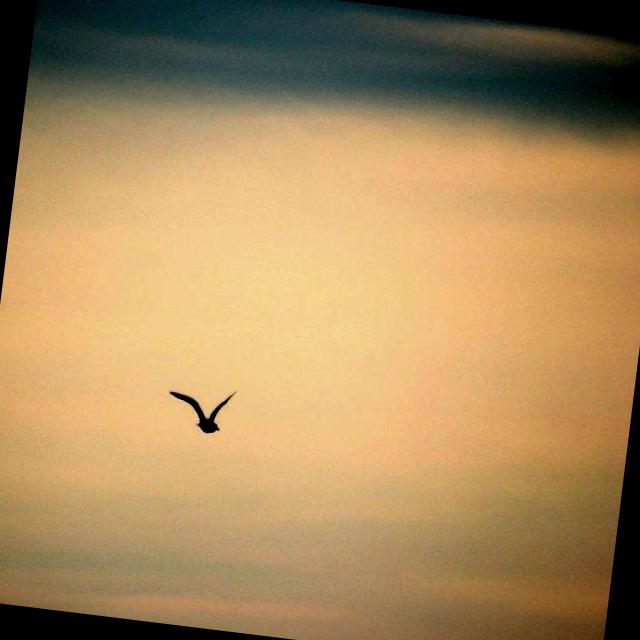bird: (158, 371, 234, 439)
